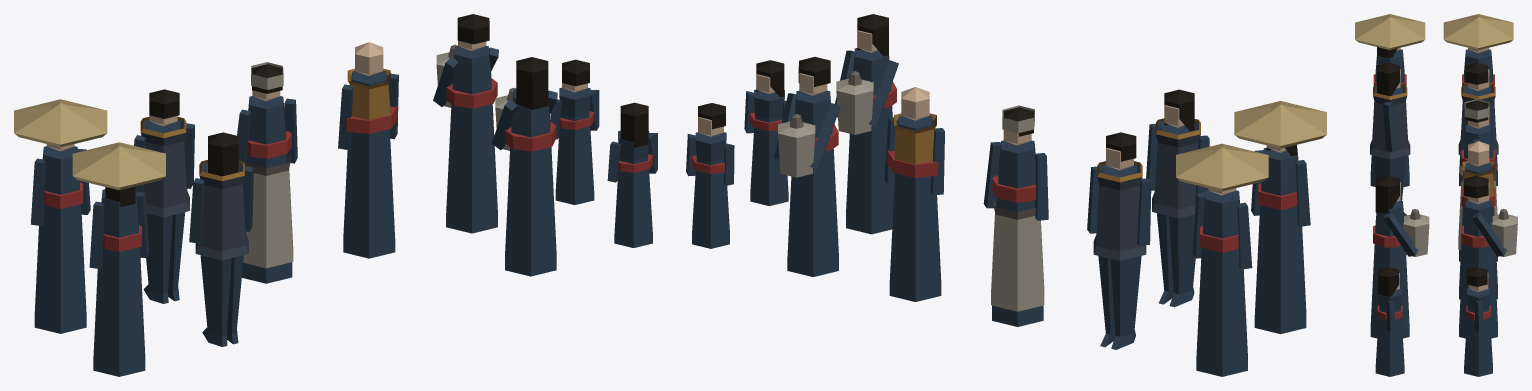
The model's file is people.glb.
3 renders of one model, left to right at view 1: azimuth 30°, elevation 25°; view 2: azimuth 150°, elevation 25°; view 3: azimuth 270°, elevation 25°, orthographic. The views are drawn at different scales.
Visible parts, largest first — view 1: Extra_person_kasa.001, Extra_person_kasa, Extra_person_pack.001, Extra_person_pack, Extra_person_monk, Extra_person_maekake, Extra_person_haori.001, Extra_person_haori, Extra_person_child.001, Extra_person_child; view 2: Extra_person_kasa, Extra_person_kasa.001, Extra_person_maekake, Extra_person_pack, Extra_person_monk, Extra_person_pack.001, Extra_person_haori, Extra_person_haori.001, Extra_person_child, Extra_person_child.001; view 3: Extra_person_pack.001, Extra_person_pack, Extra_person_haori.001, Extra_person_kasa.001, Extra_person_child.001, Extra_person_kasa, Extra_person_child, Extra_person_maekake, Extra_person_haori, Extra_person_monk.
Boxes of the visible parts, box(x1,y1,x2,y2) form: Extra_person_kasa.001: box(72, 142, 165, 376); Extra_person_kasa: box(14, 99, 107, 333); Extra_person_pack.001: box(492, 57, 557, 276); Extra_person_pack: box(433, 14, 498, 233); Extra_person_monk: box(338, 42, 398, 258); Extra_person_maekake: box(237, 62, 297, 283); Extra_person_haori.001: box(189, 132, 253, 346); Extra_person_haori: box(134, 89, 194, 303); Extra_person_child.001: box(607, 102, 657, 247); Extra_person_child: box(550, 59, 599, 204); Extra_person_kasa: box(1176, 143, 1268, 376); Extra_person_kasa.001: box(1234, 101, 1326, 334); Extra_person_maekake: box(983, 105, 1048, 326); Extra_person_pack: box(774, 57, 840, 276); Extra_person_monk: box(884, 87, 944, 301); Extra_person_pack.001: box(835, 14, 898, 234); Extra_person_haori: box(1087, 132, 1151, 349); Extra_person_haori.001: box(1146, 89, 1209, 307); Extra_person_child: box(686, 103, 734, 248); Extra_person_child.001: box(744, 60, 788, 205); Extra_person_pack.001: box(1370, 176, 1429, 338); Extra_person_pack: box(1459, 175, 1517, 338); Extra_person_haori.001: box(1370, 62, 1410, 215); Extra_person_kasa.001: box(1355, 14, 1425, 187); Extra_person_child.001: box(1375, 267, 1404, 376); Extra_person_kasa: box(1443, 14, 1513, 186); Extra_person_child: box(1464, 267, 1492, 376); Extra_person_maekake: box(1458, 99, 1497, 261); Extra_person_haori: box(1458, 62, 1498, 155); Extra_person_monk: box(1459, 141, 1497, 299).
Bounding box in the file's own units: 194 × 68.97 × 61.95.
